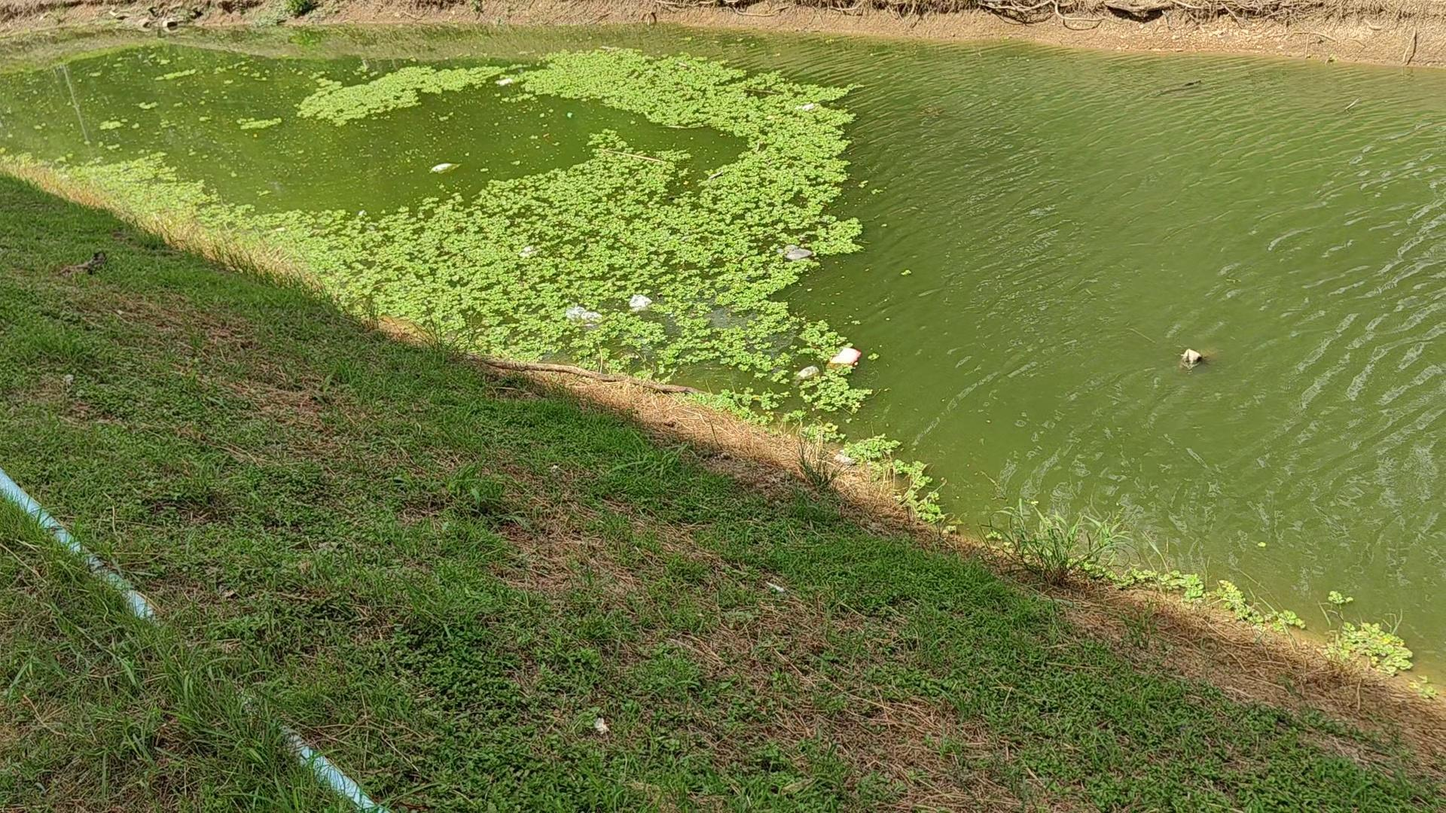trash: (566, 306, 600, 324), (830, 347, 861, 365), (630, 294, 652, 312), (796, 366, 819, 379), (834, 452, 856, 465), (431, 163, 458, 172), (520, 245, 536, 257), (496, 77, 514, 85), (796, 103, 816, 110)
